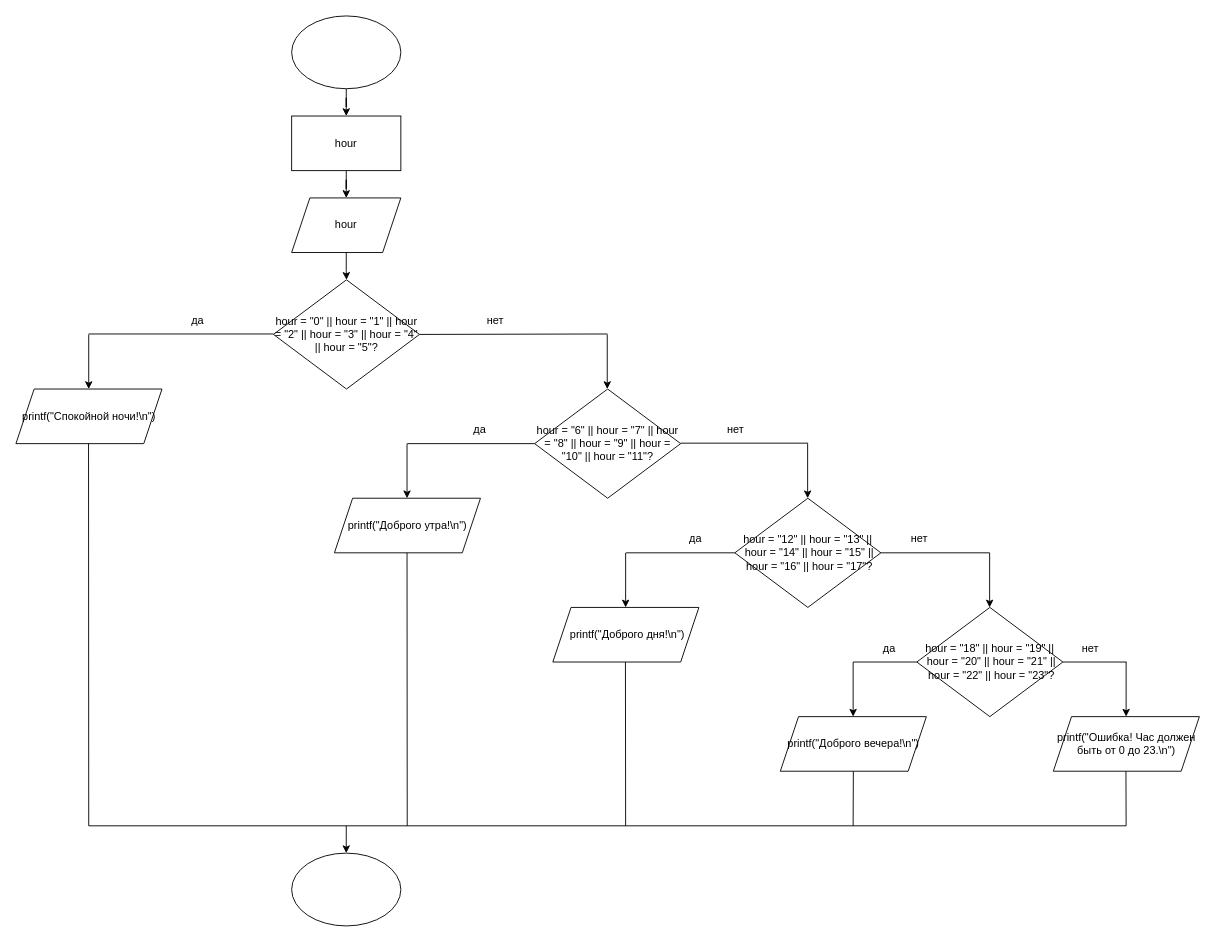
The diagram is 1216 pixels wide and 942 high, and some of its shapes have lost their labels. The shapes that lost their labels are listed below. From the top down, each one's centre as x and y in pixels, then its label:
At (346,52): "Начало".
At (346,889): "Конец".
